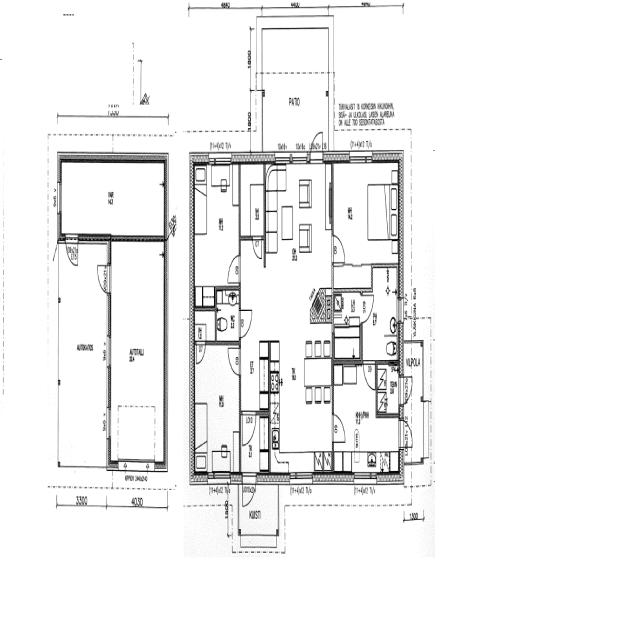door: (240, 408, 258, 449), (240, 470, 258, 509), (330, 230, 348, 263), (226, 250, 242, 284), (65, 232, 80, 268), (331, 409, 347, 442), (310, 124, 324, 160), (363, 357, 377, 390), (96, 262, 111, 292), (227, 344, 241, 376), (360, 292, 374, 322), (251, 232, 265, 262), (238, 308, 252, 337), (399, 374, 409, 406), (104, 334, 113, 366), (197, 339, 207, 363)
window: (288, 464, 315, 486), (119, 457, 149, 474), (209, 149, 233, 168), (289, 148, 310, 166), (55, 176, 63, 221), (348, 148, 372, 163), (210, 468, 231, 485), (272, 149, 292, 165), (354, 469, 374, 484), (106, 404, 113, 442), (397, 294, 403, 322)
zone: (108, 236, 166, 464), (60, 161, 166, 237), (331, 364, 401, 476), (331, 158, 399, 265), (264, 162, 332, 262), (193, 342, 240, 476), (193, 161, 241, 290), (363, 267, 400, 361), (401, 350, 424, 457), (239, 161, 264, 239), (240, 411, 270, 476), (376, 360, 401, 416), (216, 287, 240, 343), (333, 286, 363, 326), (333, 320, 361, 360), (194, 308, 217, 341)
